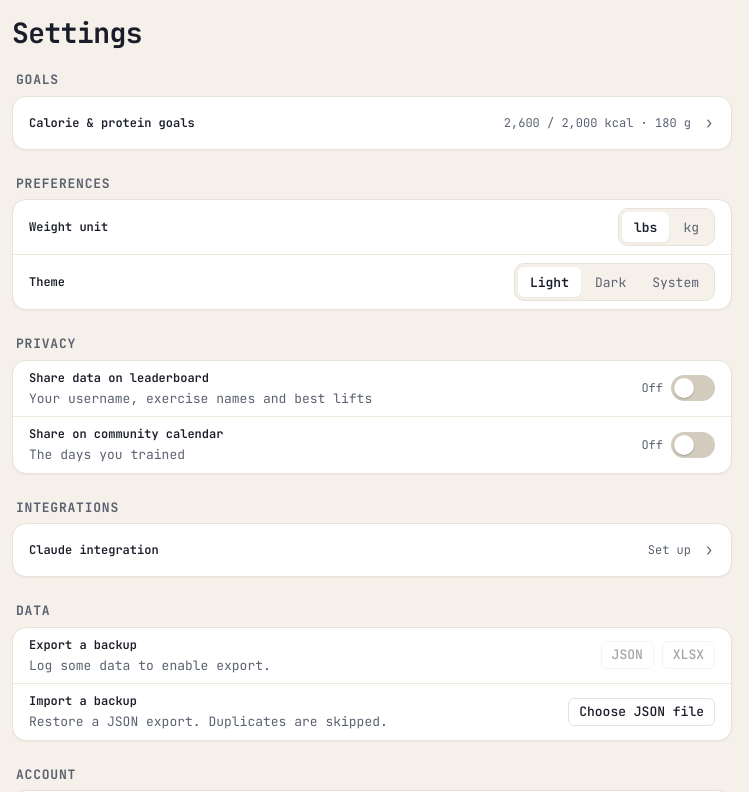
Test: Settings — goals row › opens the form under the row, populated with the goals
Step 1. Click the button "Calorie & protein goals 2,600 / 2,000 kcal · 180 g ›" → {"x": 112, "y": 122}, box [13,96,731,148]
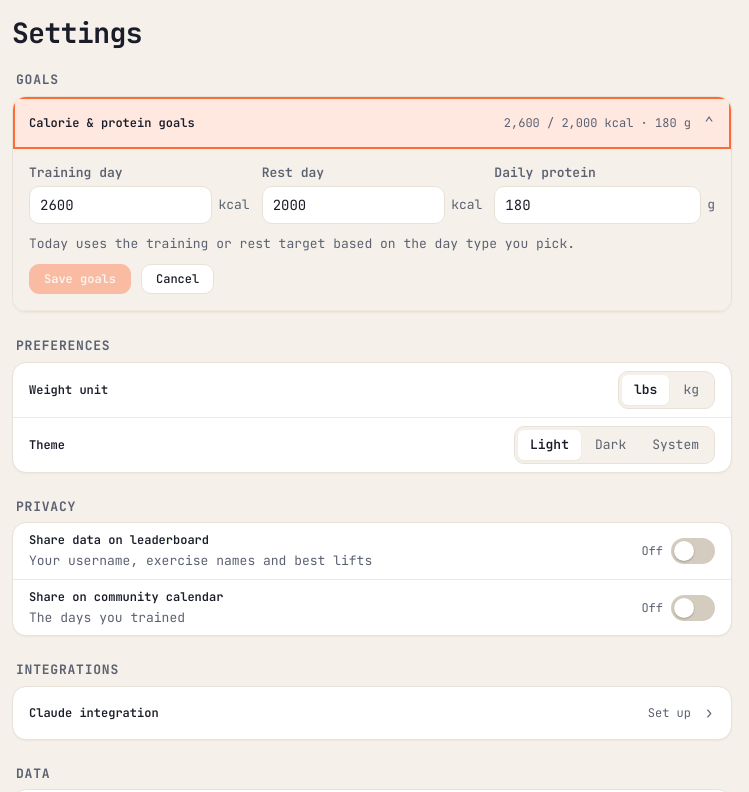
Result: the button "Calorie & protein goals 2,600 / 2,000 kcal · 180 g ⌃" is expanded at [13,96,731,148]
Result: the number field labelled "Training day" holds "2600" at [29,186,212,224]
Result: the number field labelled "Rest day" holds "2000" at [262,186,445,224]
